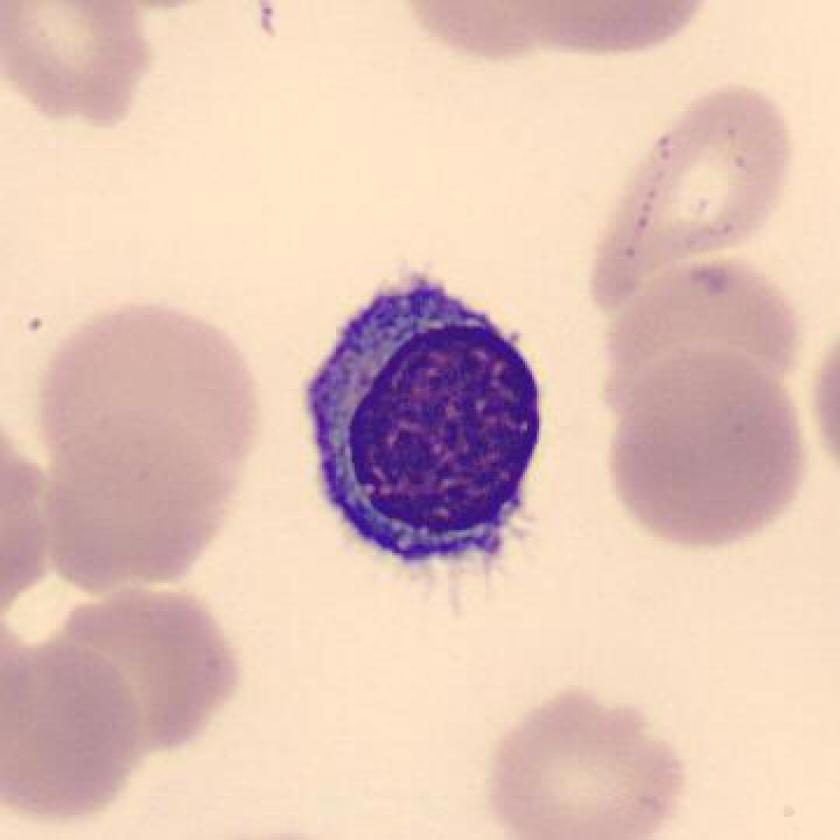lymphocyte: (286, 253, 556, 589)
